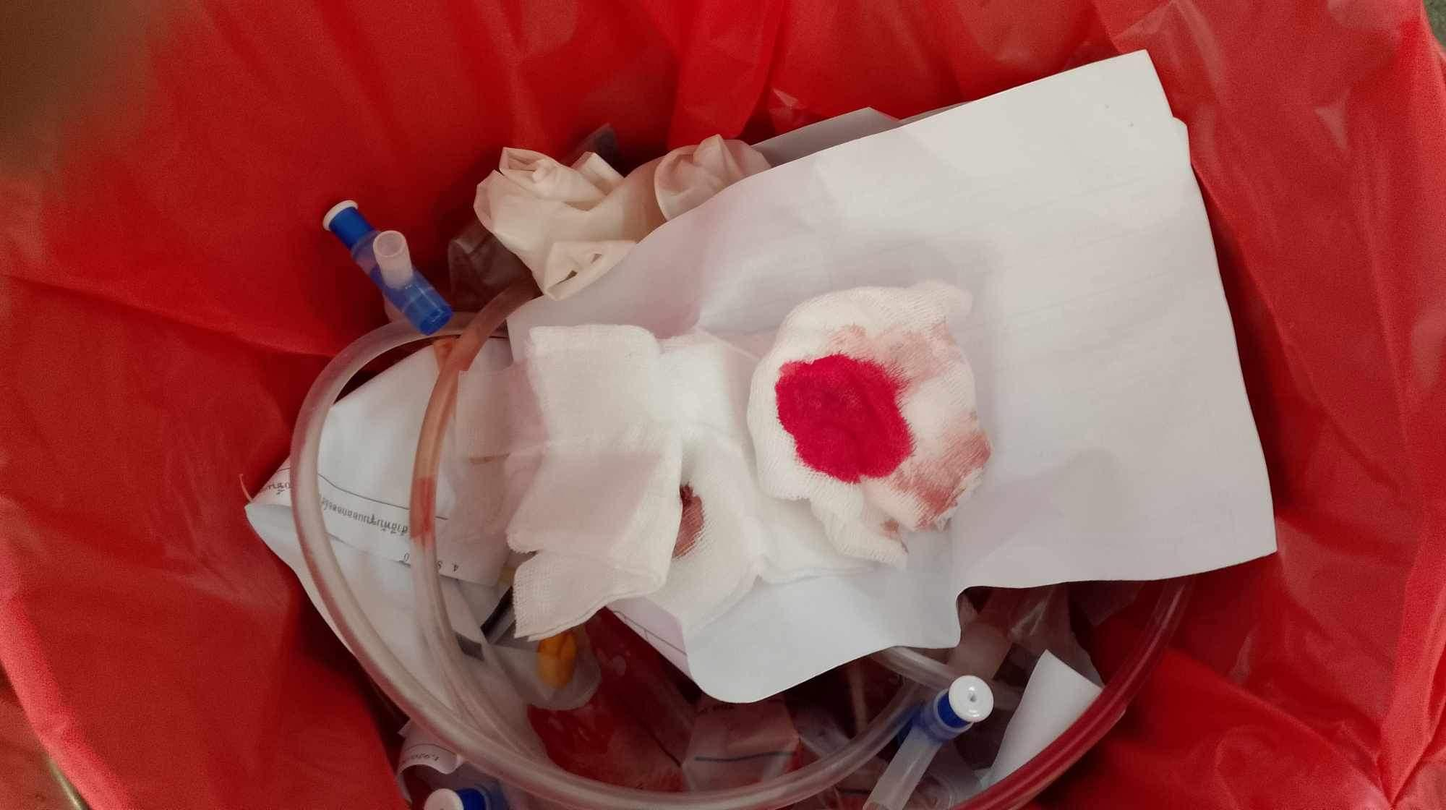General: (240, 48, 1279, 806)
Infectious: (745, 278, 992, 570)
Sharps: (320, 197, 454, 337), (860, 673, 994, 808)
